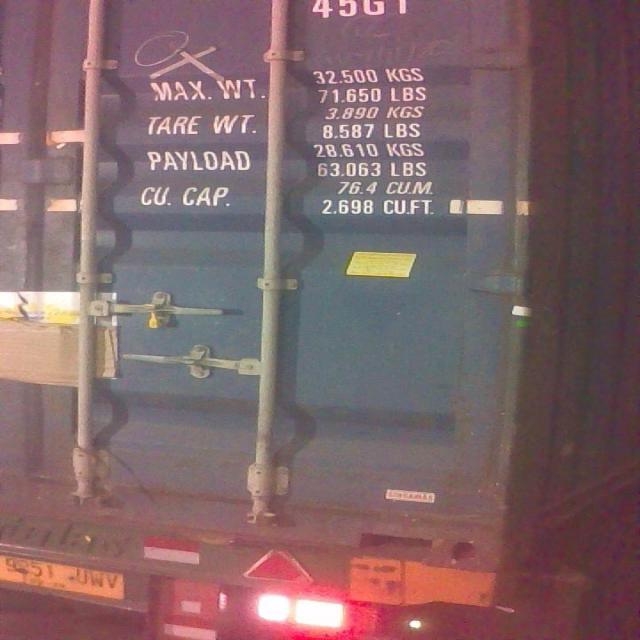seal: (133, 295, 187, 338)
